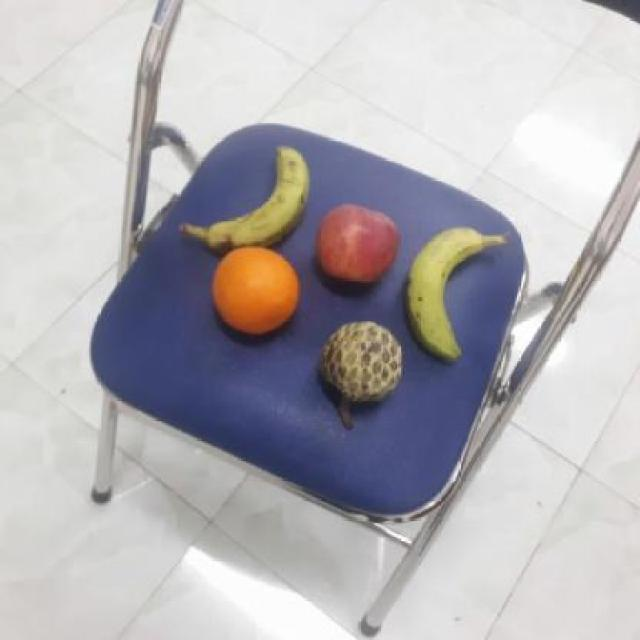apple: (315, 202, 400, 285)
banana: (199, 137, 316, 251), (400, 226, 497, 359)
oren: (207, 243, 298, 337)
sugar apple: (319, 320, 406, 405)
